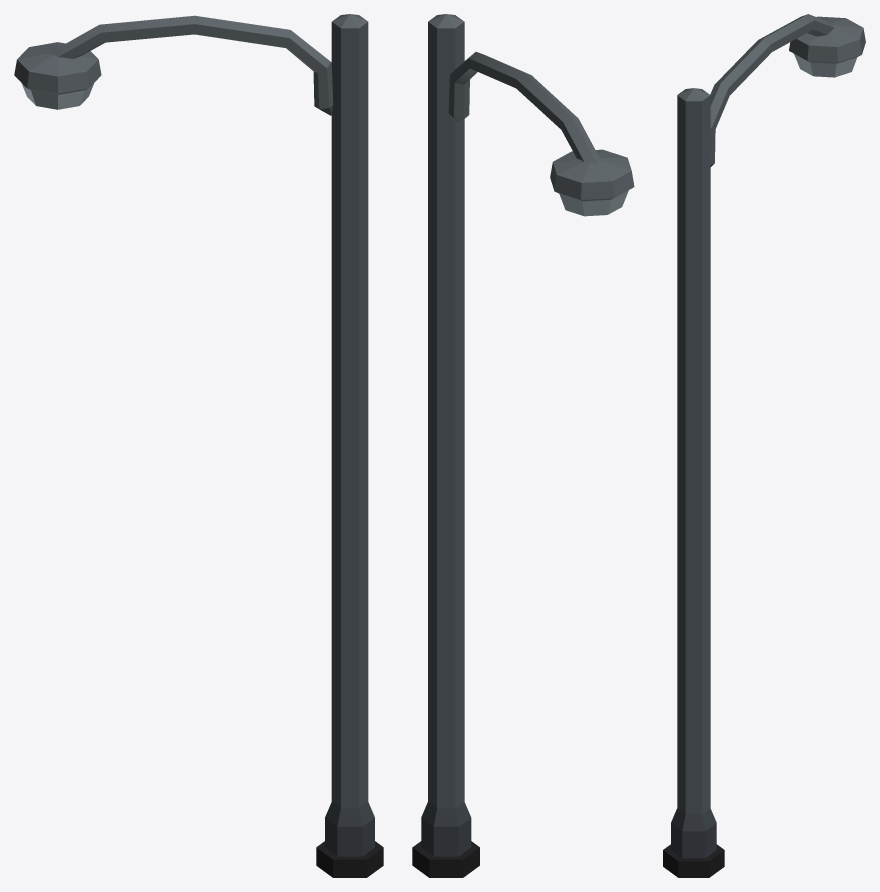
Rendered from streetamp_26.fbx.
3 views of the same model, side by side, from view 1: azimuth 30°, elevation 25°; view 2: azimuth 150°, elevation 25°; view 3: azimuth 270°, elevation 25° (orthographic). The views are drawn at different scales.
Parts seen in each view (by area): view 1: Streetlamp_26; view 2: Streetlamp_26; view 3: Streetlamp_26.
Boxes of the visible parts, x1,y1,x2,y2 form: Streetlamp_26: (14,14,383,877); Streetlamp_26: (412,14,634,877); Streetlamp_26: (663,14,865,877).
Bounding box in the file's own units: 0.3279 × 0.9496 × 0.2244.
Materials: 1 (1 with a texture image).
